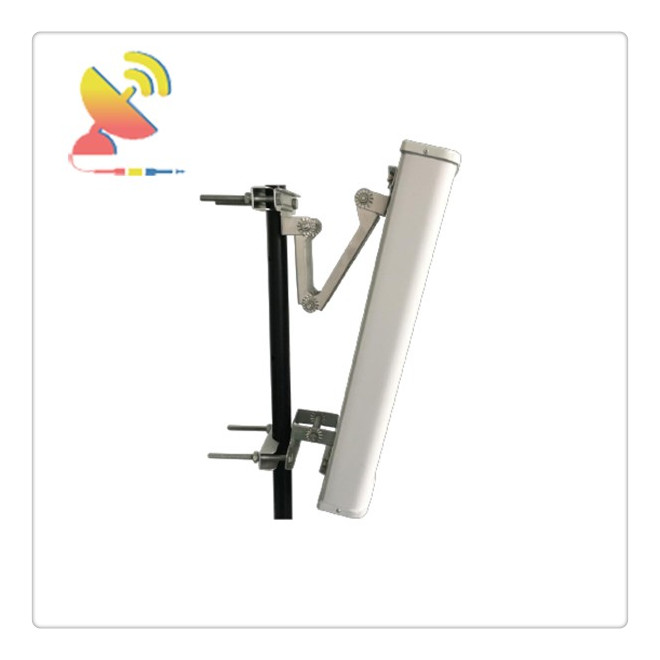sa: (216, 105, 468, 557)
